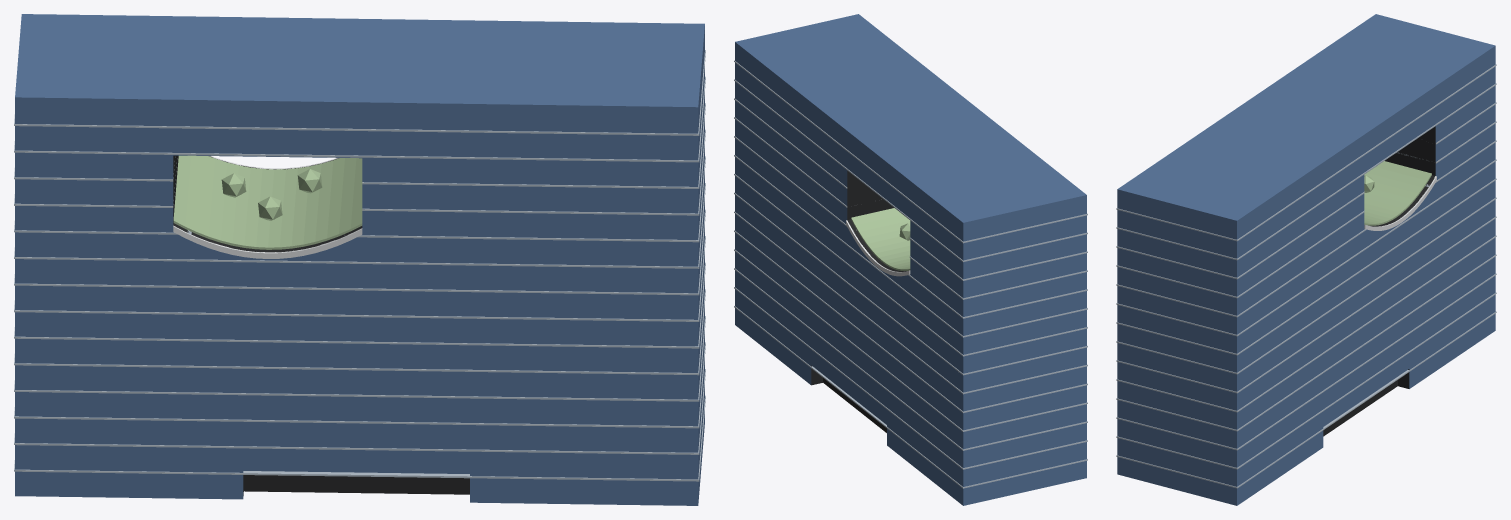
The model's file is council.glb.
The picture shows the model from 3 angles, left to right: view 1: azimuth 30°, elevation 25°; view 2: azimuth 150°, elevation 25°; view 3: azimuth 270°, elevation 25°; orthographic projection. The views are drawn at different scales.
Visible parts, largest first — view 1: council; view 2: council; view 3: council.
Boxes of the visible parts, x1,y1,x2,y2 form: council: [14, 14, 705, 505]; council: [734, 14, 1087, 505]; council: [1116, 14, 1496, 505].
Bounding box in the file's own units: 109 × 69.8 × 84.37.
